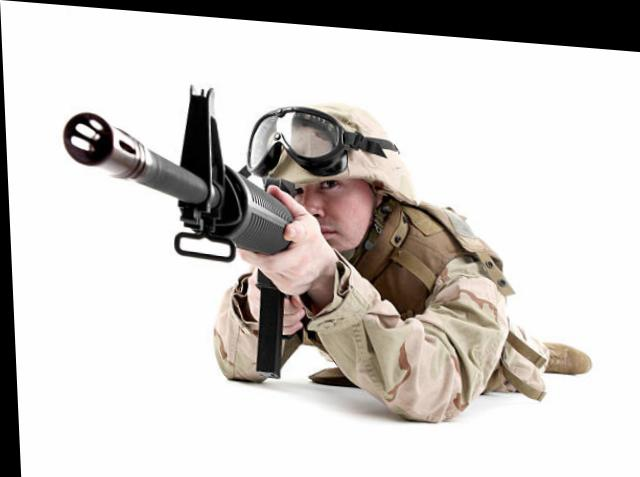other: (197, 73, 593, 421)
